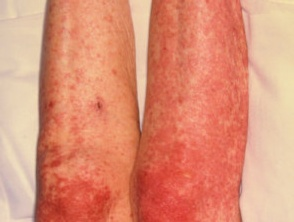SJS-TEN: (27, 0, 152, 222), (130, 0, 254, 222)
